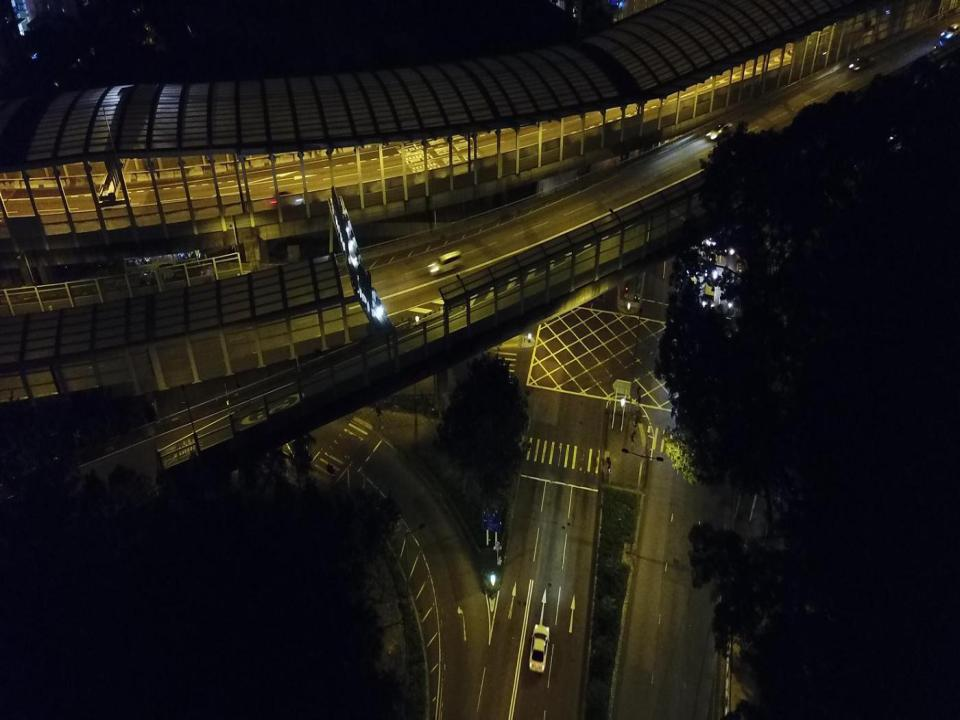car: (528, 623, 551, 674), (428, 248, 464, 276), (270, 189, 304, 210), (706, 118, 734, 142), (701, 272, 716, 307)
